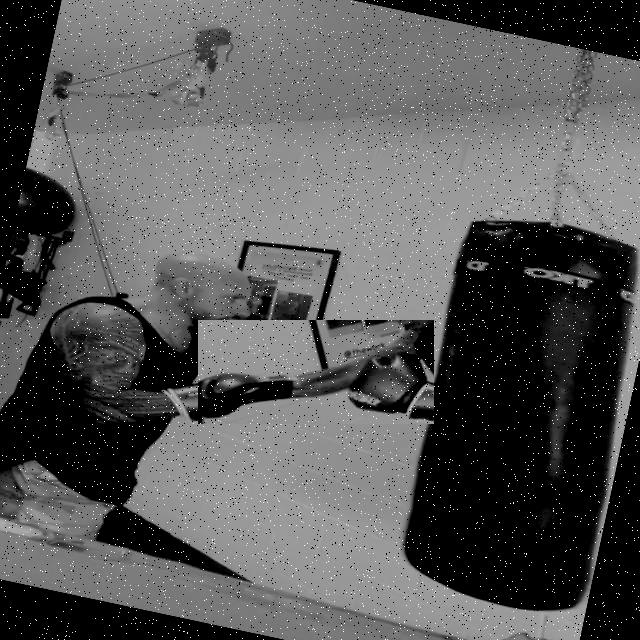punch: (198, 320, 434, 424)
